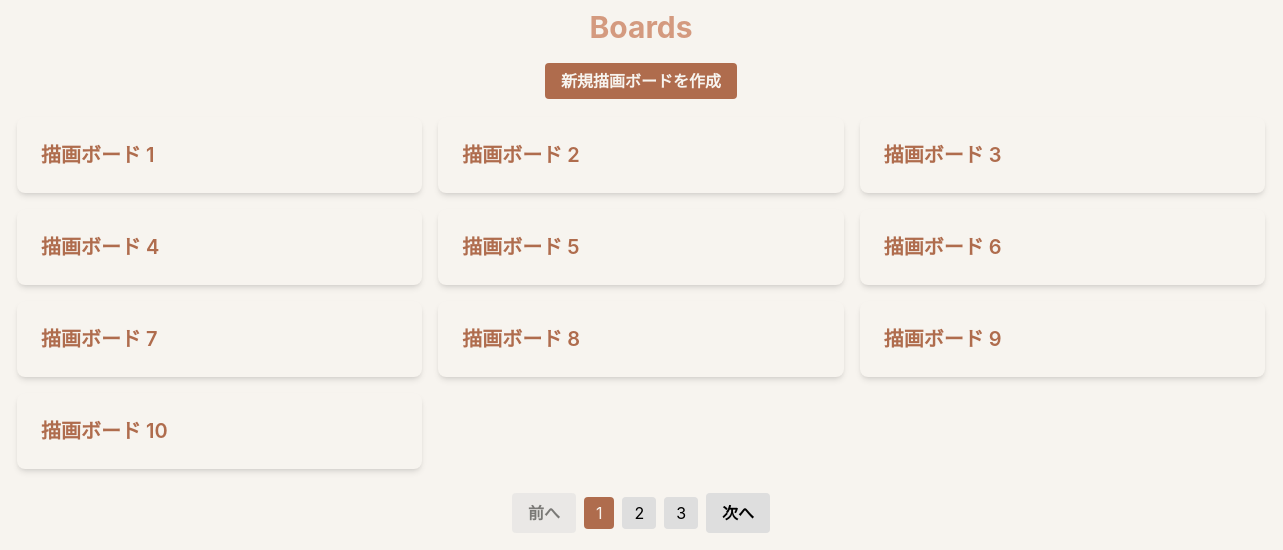
Test case: DrawingList › 「前へ」ボタンをクリックすると前のページが読み込まれる
expect the text "描画ボード 1" is shown: met, box [41, 143, 154, 167]
Note: まず2ページ目に移動
Step 1. Click the button "次へ" → (738, 513), box [706, 493, 770, 533]
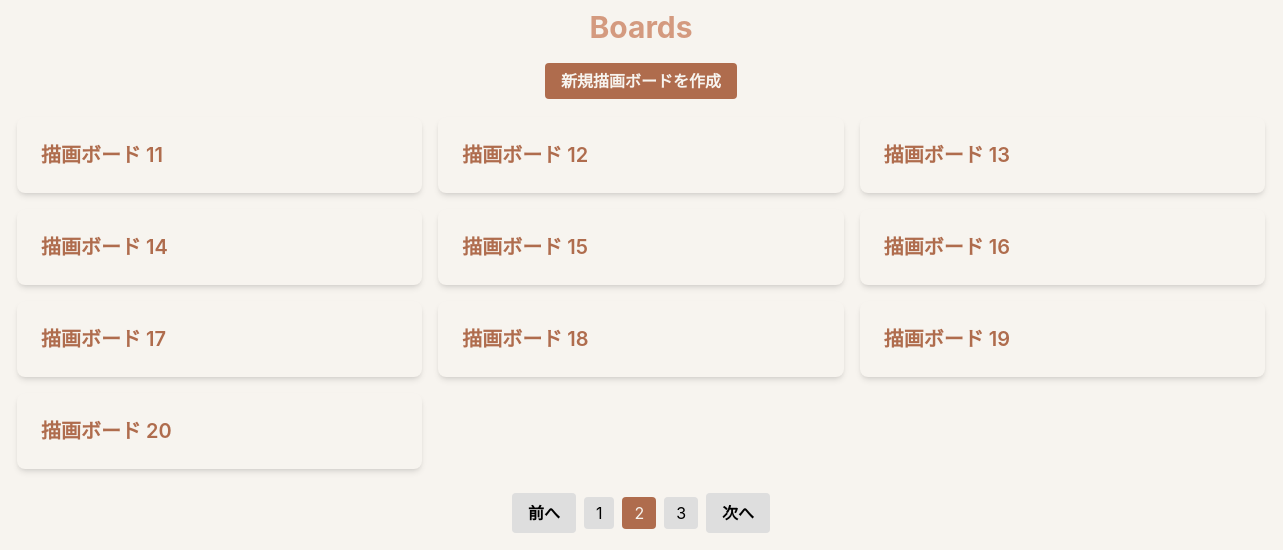
expect the text "描画ボード 11" is shown: met, box [41, 143, 163, 167]
Note: 「前へ」ボタンをクリック
Step 2. Click the button "前へ" → (544, 513), box [512, 493, 576, 533]
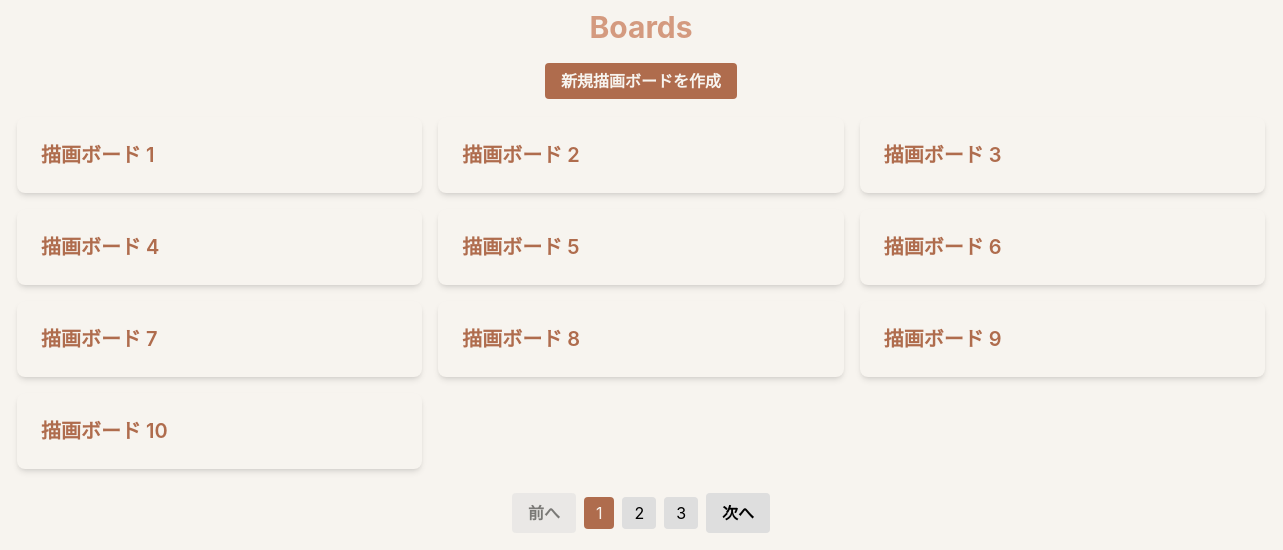
expect the text "描画ボード 1" is shown: met, box [41, 143, 154, 167]
expect the link "描画ボード 11" is gone: met
